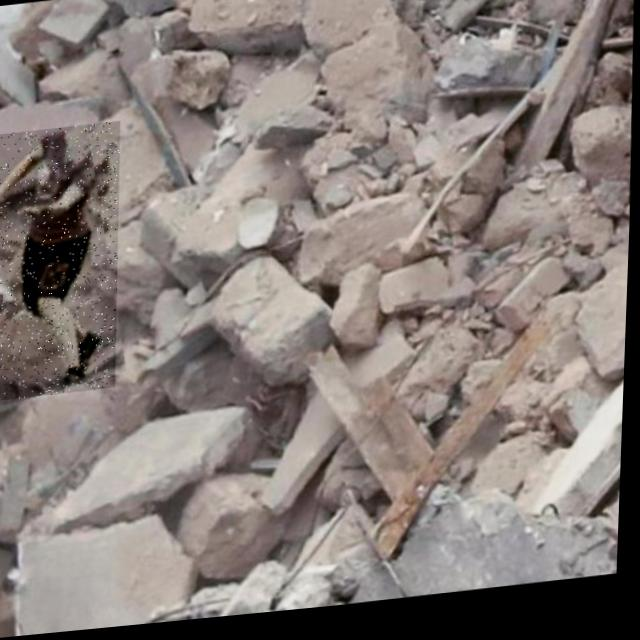Person in Rubble: (0, 122, 125, 401)
